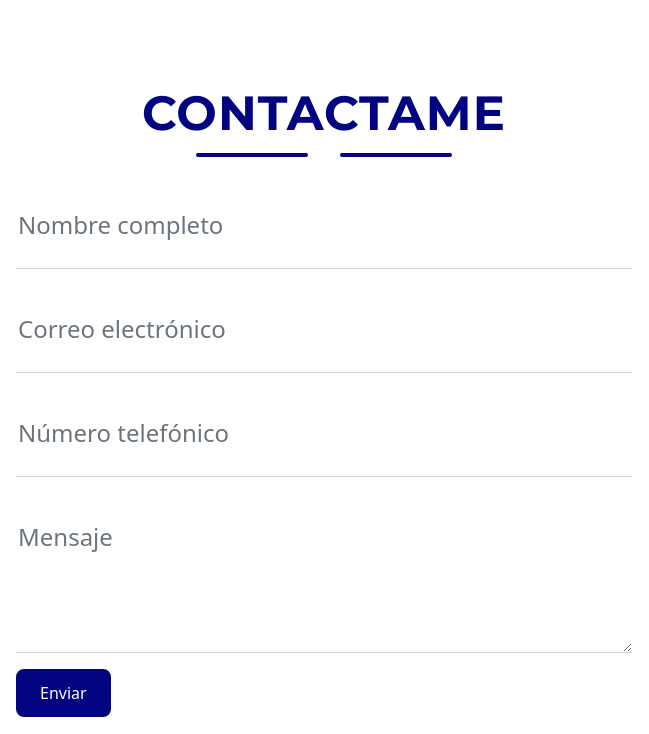
Scenario: Contact › muestra errores de validación si envío vacío
Click the button "Enviar": coordinates (63, 693) [16,669,111,717]
(page scrolled)
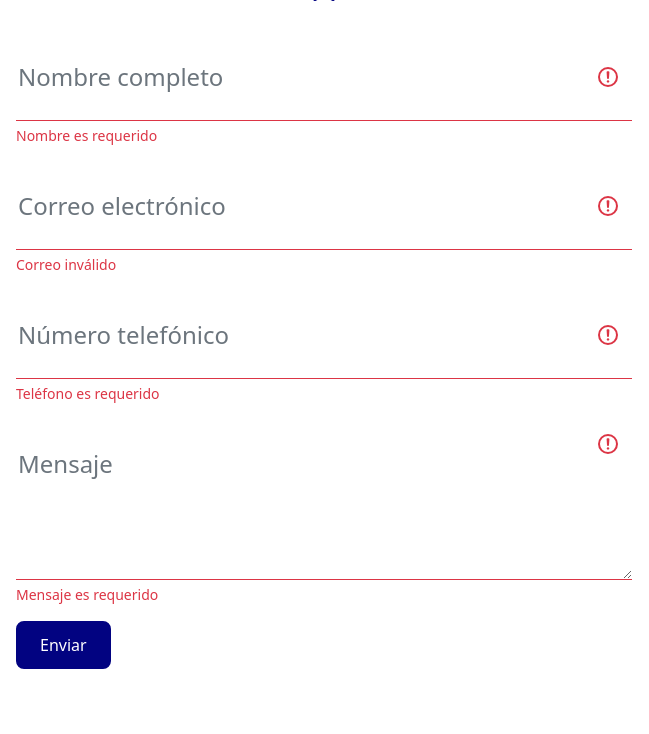
Check: the text "Nombre es requerido" is shown, box [16,126,157,145]
Check: the text "Correo inválido" is shown, box [16,255,116,274]
Check: the text "Teléfono es requerido" is shown, box [16,384,160,403]
